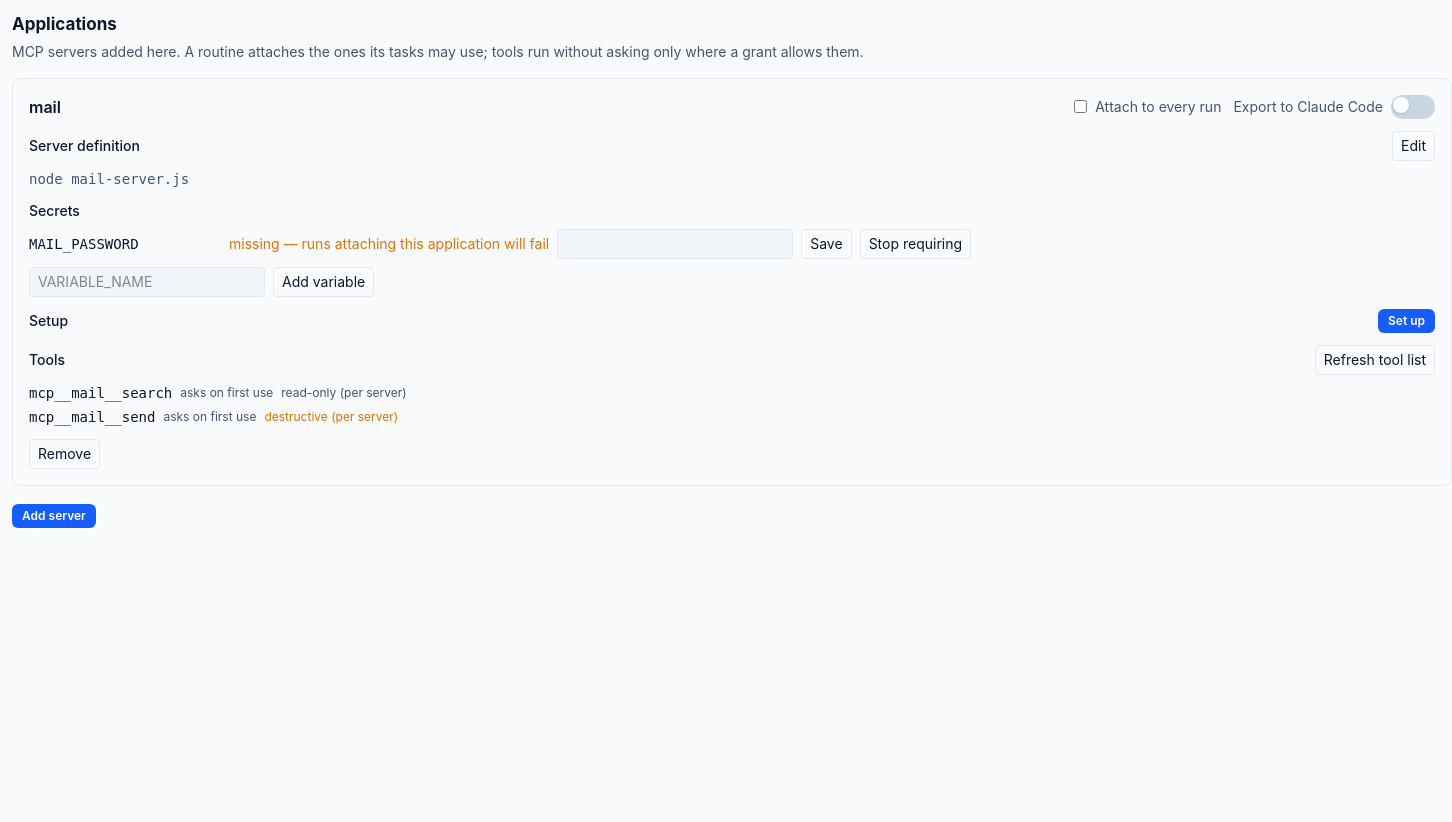
Test: applicationSettings › shows a 502 from setup and renders no frame
Click the button with test id "application-setup-start-res-mail": (1406, 320) [1378, 308, 1435, 332]
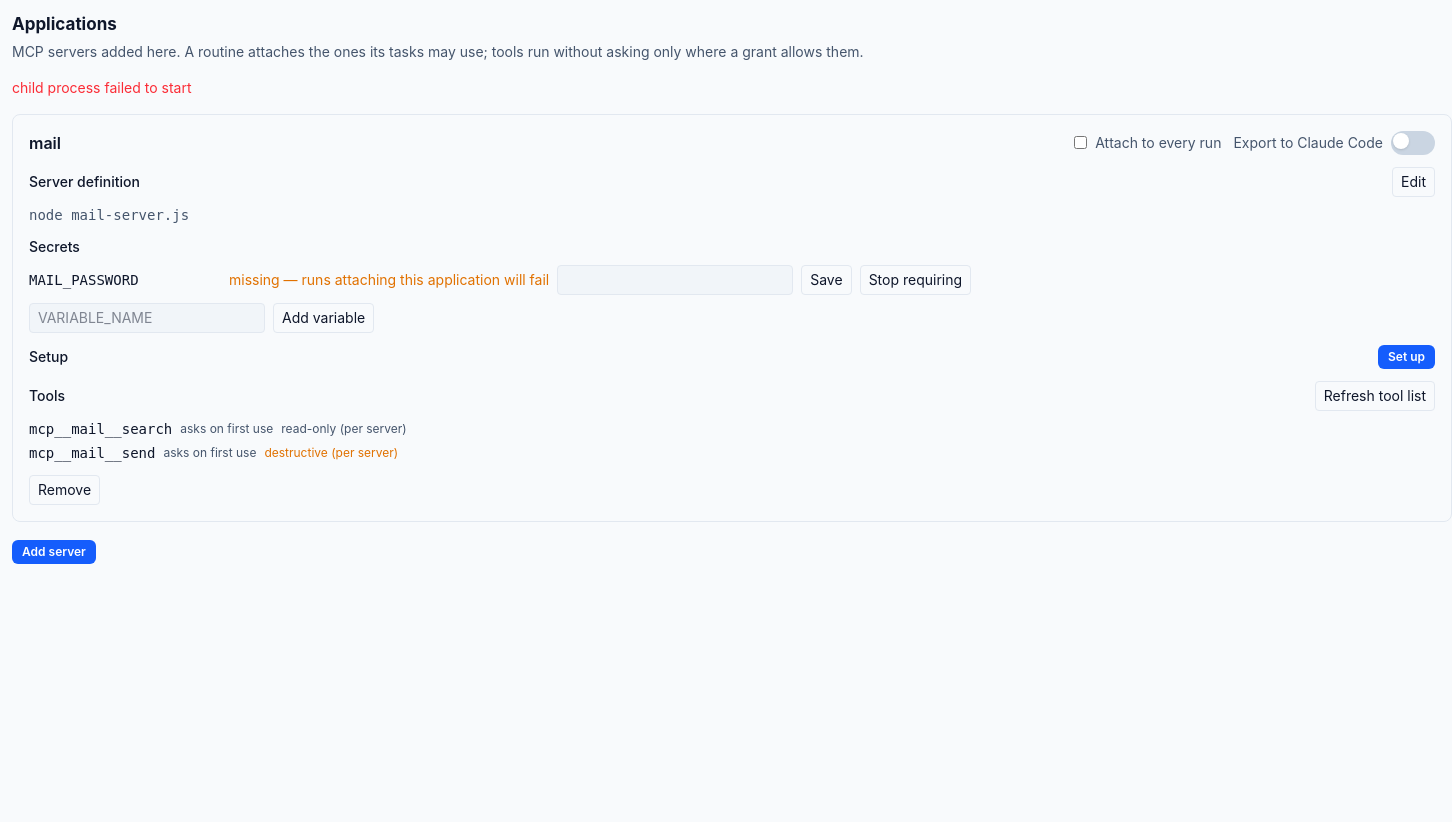
Now the text "child process failed to start" is shown, box [12, 78, 192, 96]
